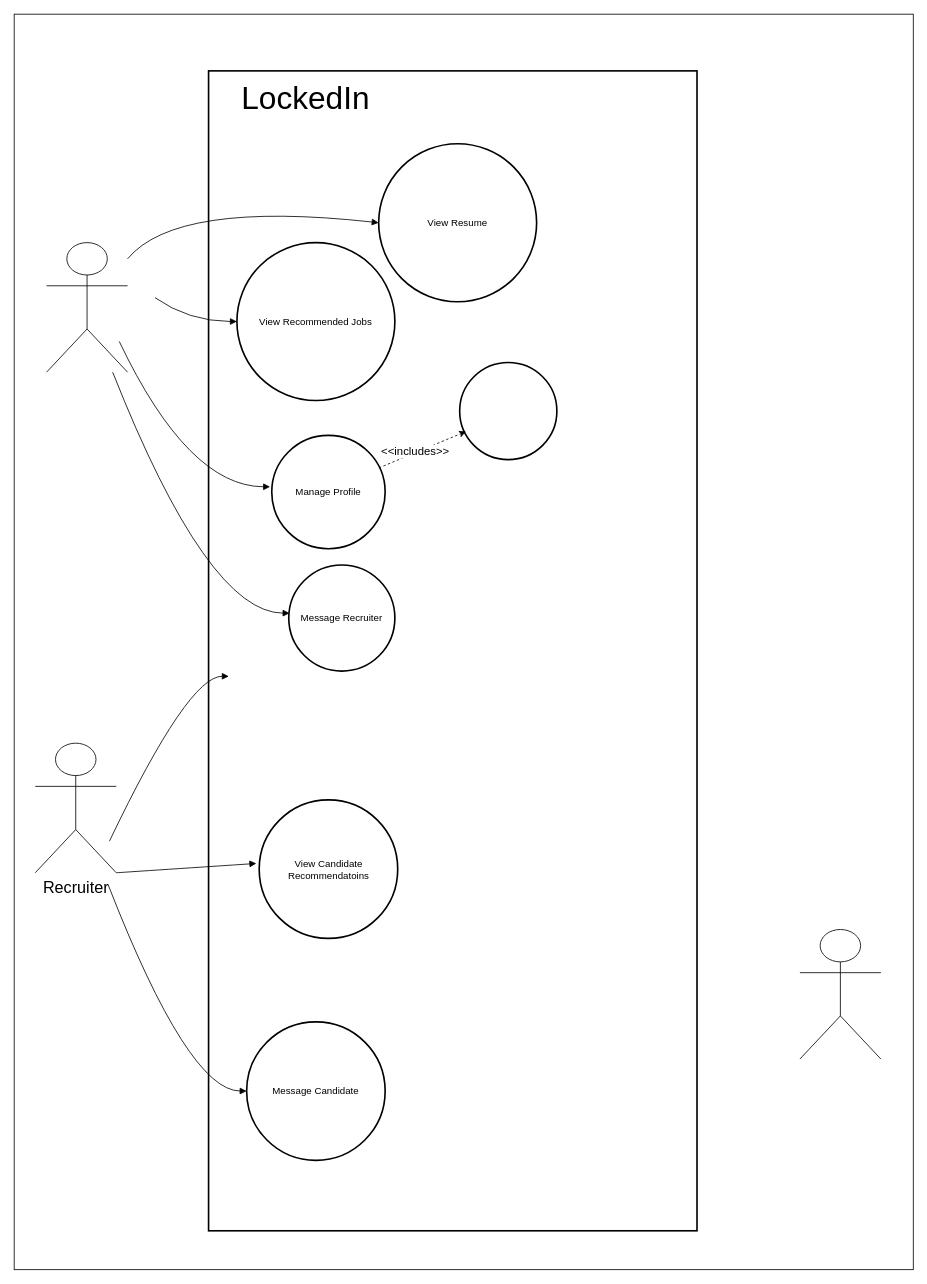
Image size: 927x1284. Some labels were removed from this diagram. The shapes that lost their labels are listed below. From the top down, each one's box as (x1, y1, x2, y2) in pixels, then its label:
(46, 242, 128, 372): Job Seeker
(458, 361, 557, 460): Set Privacy Options
(799, 929, 881, 1059): Administrator
